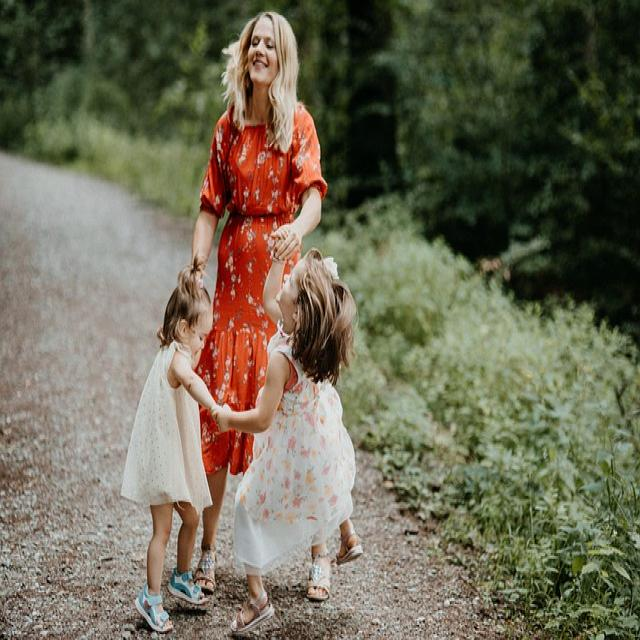adult: (190, 11, 334, 601)
child: (230, 231, 366, 637), (120, 250, 210, 633)
